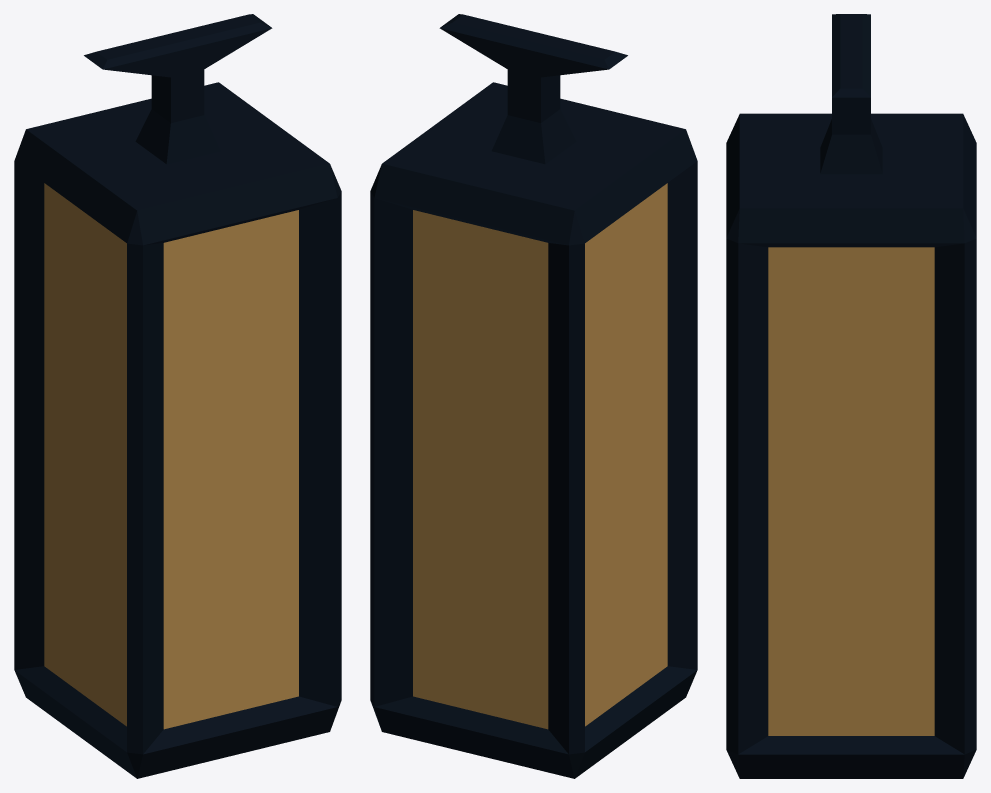
File: lantern.fbx
The picture shows the model from 3 angles, left to right: view 1: azimuth 30°, elevation 25°; view 2: azimuth 150°, elevation 25°; view 3: azimuth 270°, elevation 25°; orthographic projection.
Parts seen in each view (by area): view 1: Cube; view 2: Cube; view 3: Cube.
Part boxes in pixels (box(x1,y1,x2,y2)): Cube: box(14, 14, 341, 778); Cube: box(370, 14, 697, 778); Cube: box(726, 14, 976, 778).
Bounding box in the file's own units: 38.06 × 115 × 38.33.
